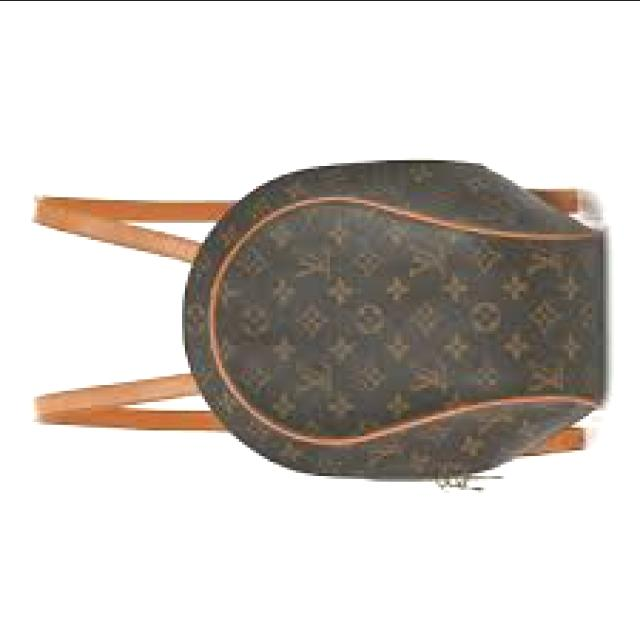backpack: (27, 160, 607, 493)
